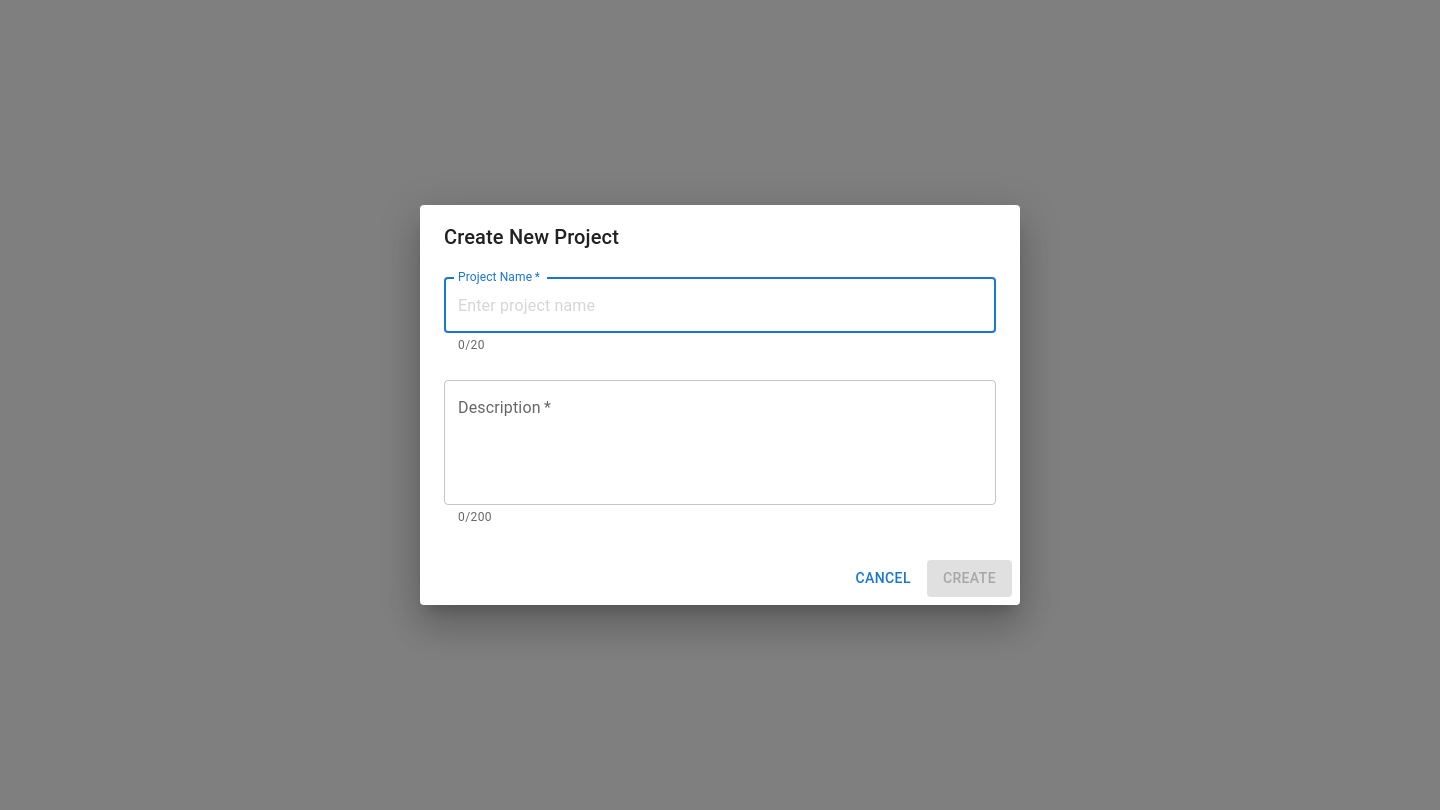
CreateProjectDialog › should display character count for description field
The image size is (1440, 810).
In the text box with placeholder "Enter project description": (720, 443) [458,397,982,489], type "Test Description"
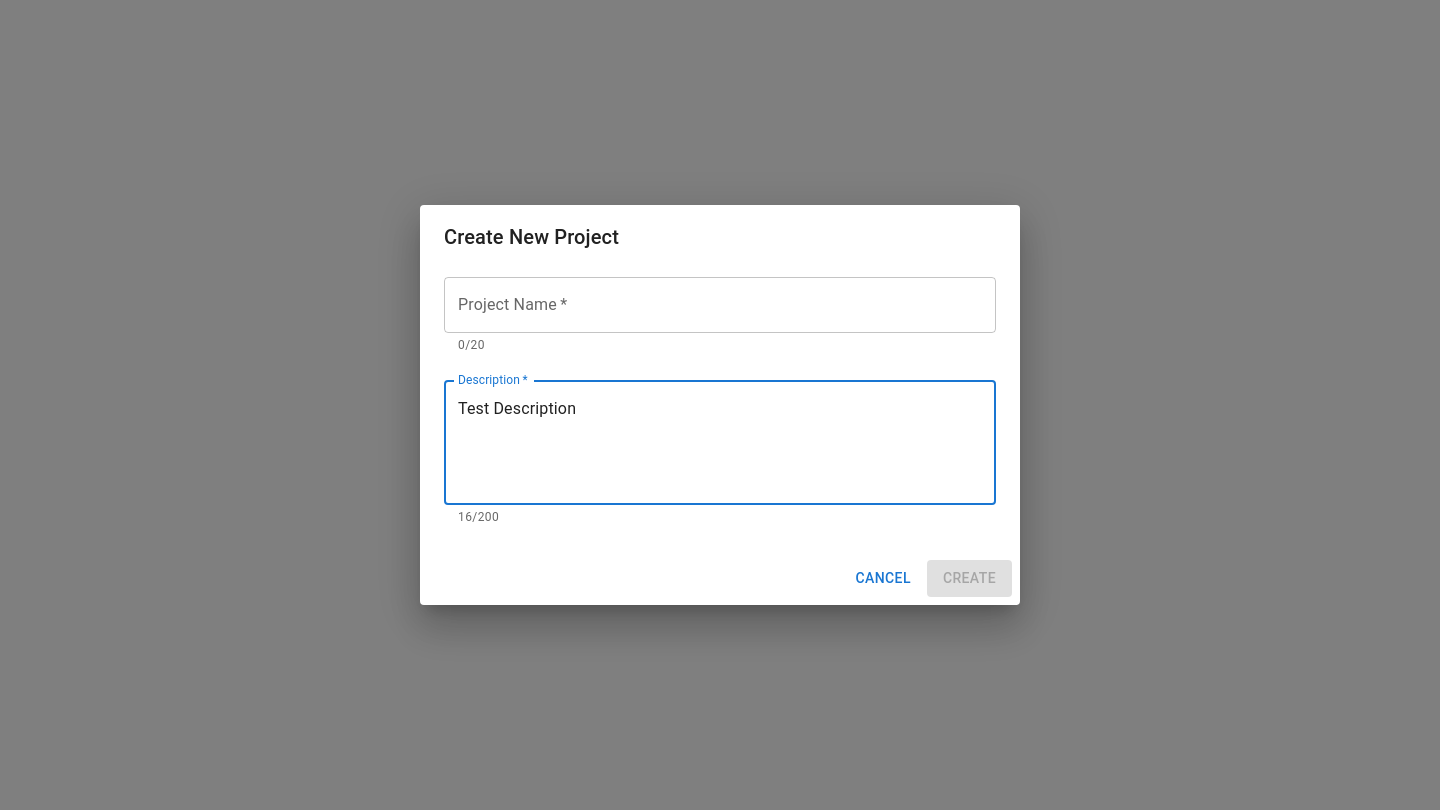
Result: the text "16/200" is shown at [458,510,499,524]
